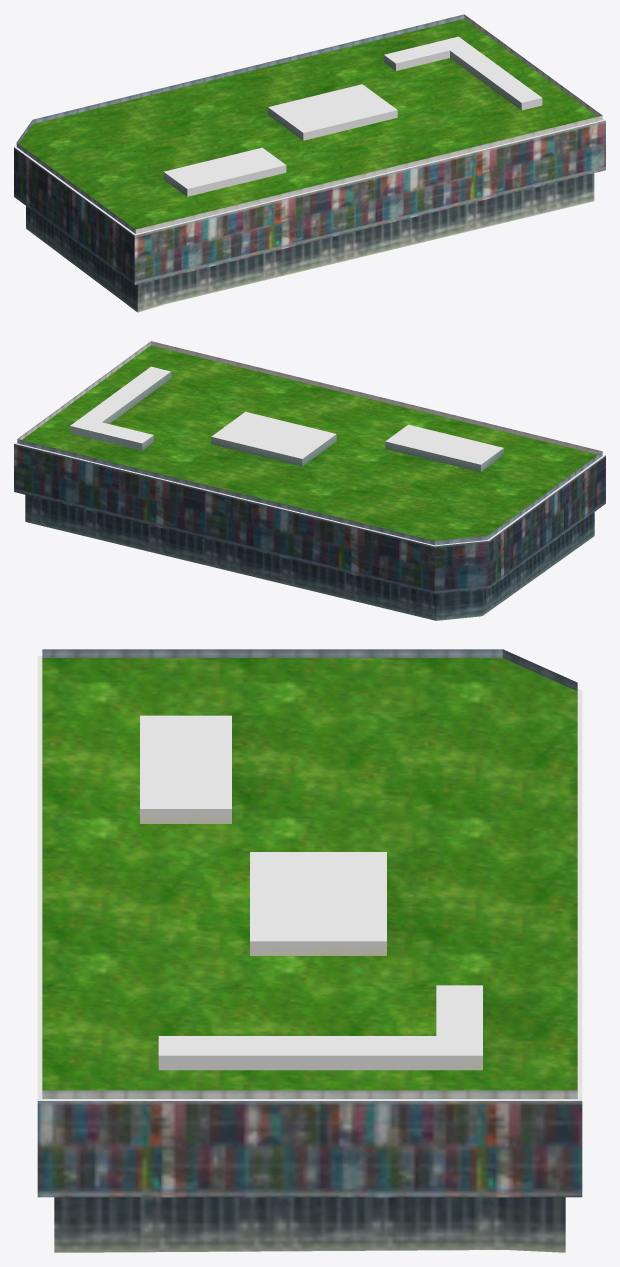
File: 1D business.obj
The picture shows the model from 3 angles, top to bottom: view 1: azimuth 30°, elevation 25°; view 2: azimuth 150°, elevation 25°; view 3: azimuth 270°, elevation 25°; orthographic projection. The views are drawn at different scales.
Parts seen in each view (by area): view 1: 1D_business; view 2: 1D_business; view 3: 1D_business.
Part boxes in pixels (x1,y1,x2,y2): 1D_business: (14,14,605,312); 1D_business: (14,341,605,620); 1D_business: (37,649,582,1252).
Size of the model in its own units: 90.45 by 16.47 by 46.76.
Materials: 1 (1 with a texture image).
